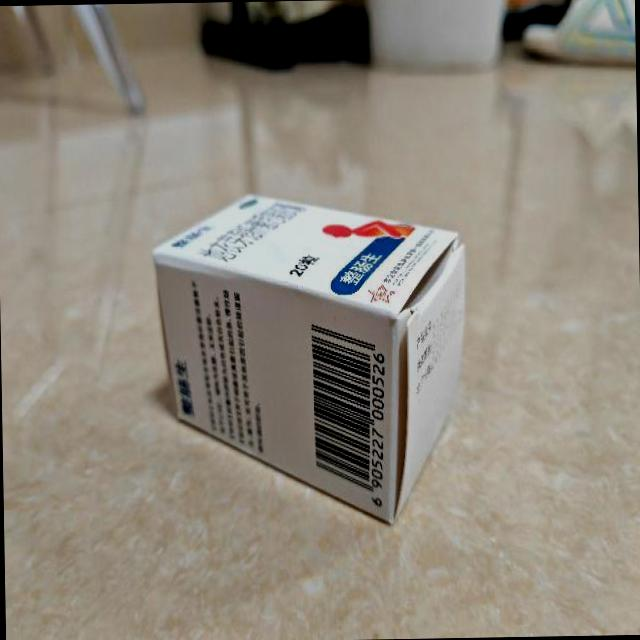box: (151, 189, 470, 528)
